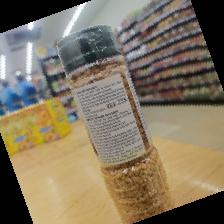TayNinh_green: (54, 23, 172, 222)
